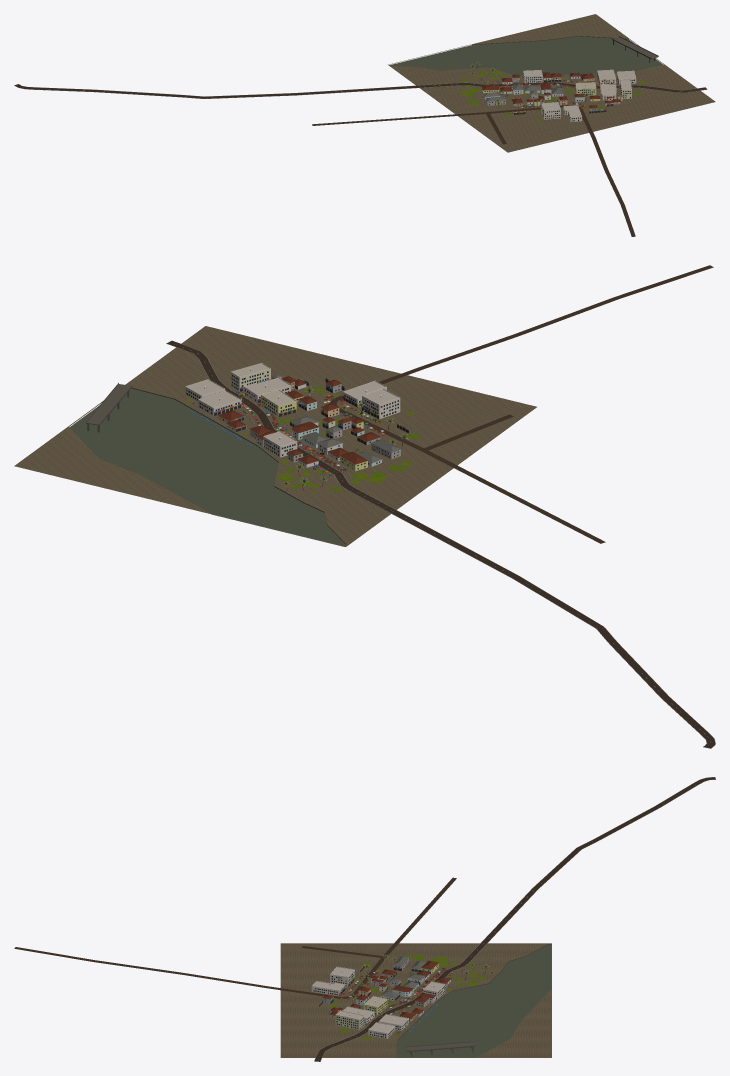
Rendered from waterside-market.v2.glb.
3 renders of one model, top to bottom at view 1: azimuth 30°, elevation 25°; view 2: azimuth 150°, elevation 25°; view 3: azimuth 270°, elevation 25°, orthographic. The views are drawn at different scales.
Parts seen in each view (by area): view 1: ground; view 2: ground; view 3: ground.
Part boxes in pixels (<box>): ground: <box>14,14,715,236</box>; ground: <box>14,265,715,748</box>; ground: <box>14,777,715,1061</box>.
Size of the model in its own units: 780 by 15.7 by 812.
88 materials, 43 textured.
